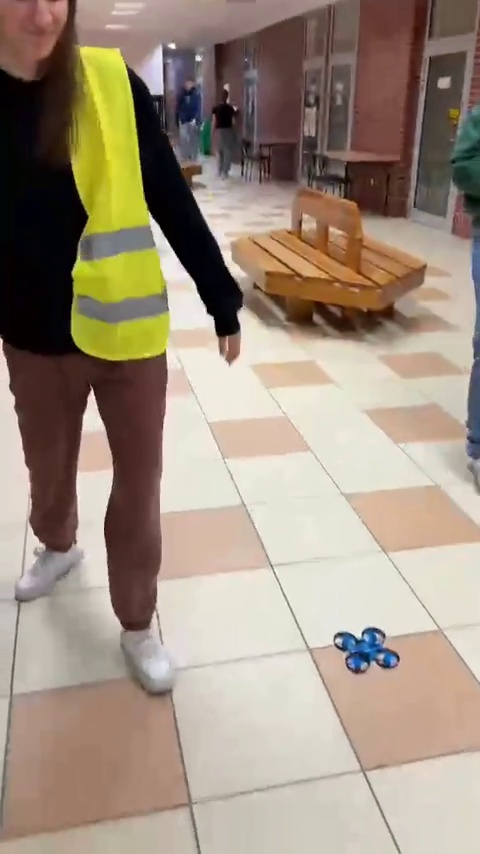drone: (333, 626, 403, 671)
no vest: (172, 78, 208, 167), (212, 88, 242, 178)
vest: (2, 0, 206, 712)
